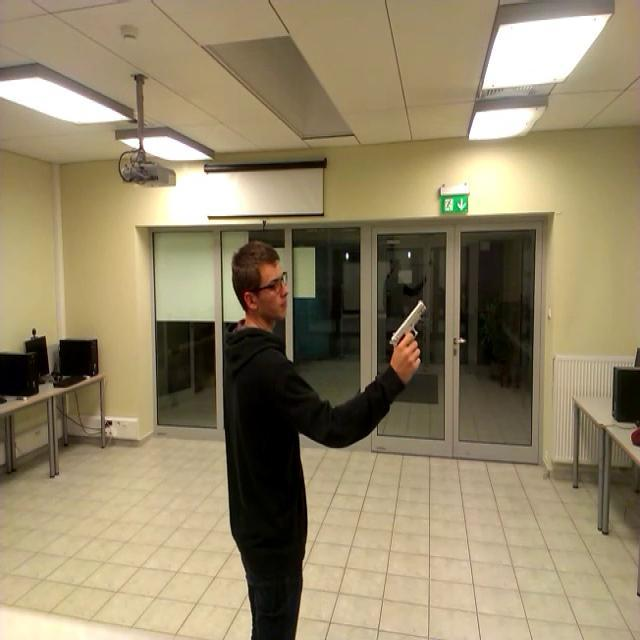Gun: (382, 280, 448, 370)
